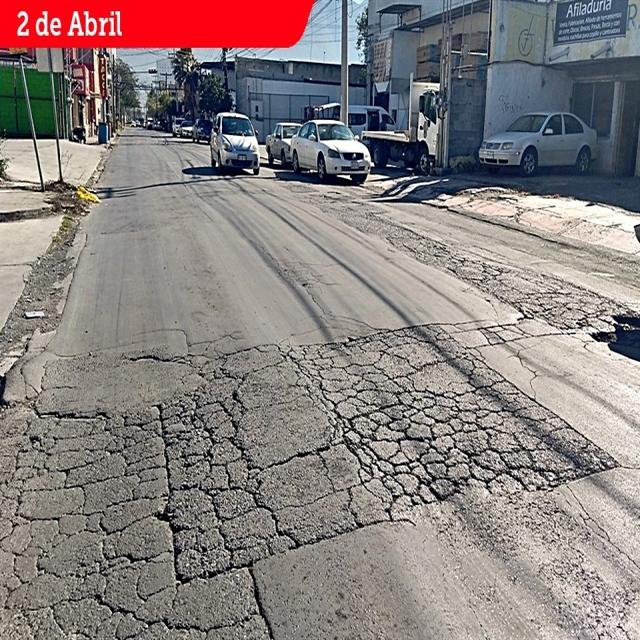Drain Hole: (311, 346, 608, 518)
